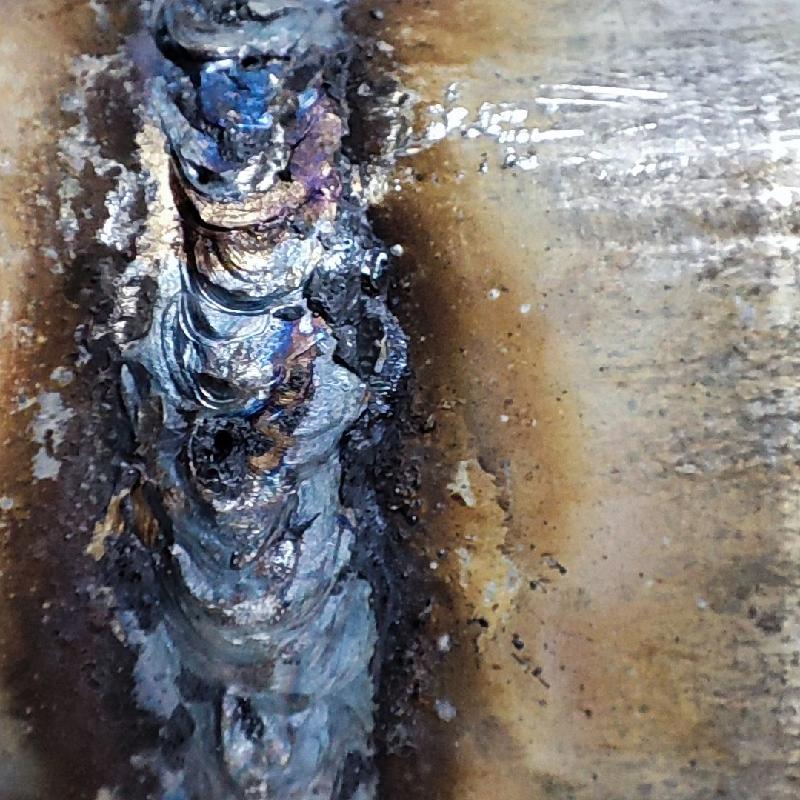Surface_pores: (197, 415, 250, 479), (269, 156, 318, 206), (178, 151, 225, 200), (228, 45, 274, 79)
